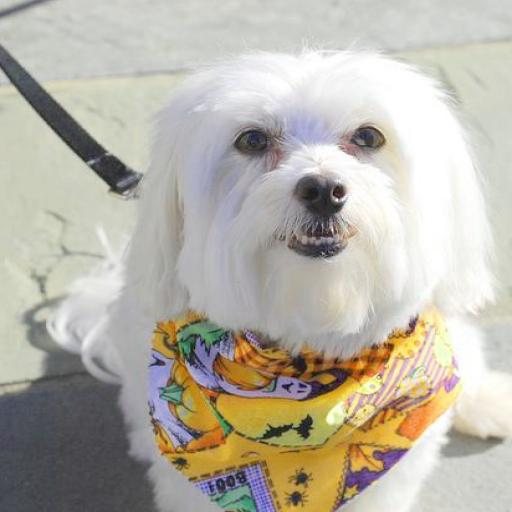dog_face: (139, 49, 444, 318)
